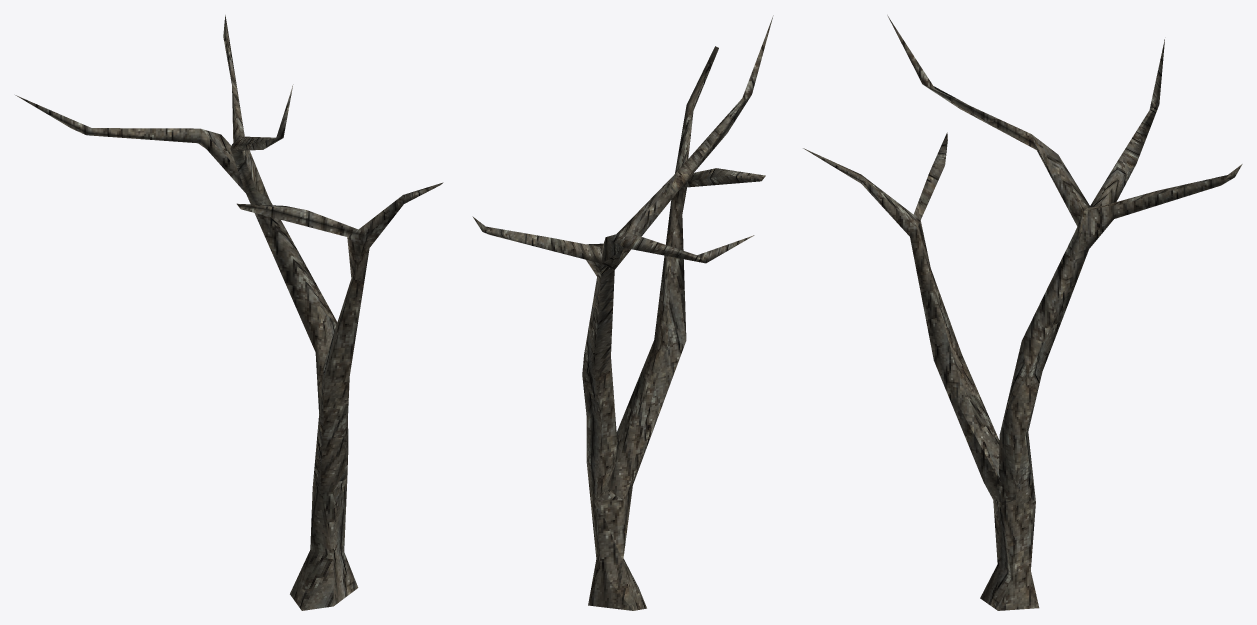
Rendered from fixedTree1.fbx.
3 views of the same model, side by side, from view 1: azimuth 30°, elevation 25°; view 2: azimuth 150°, elevation 25°; view 3: azimuth 270°, elevation 25° (orthographic). The views are drawn at different scales.
Visible parts, largest first — view 1: Tree 1; view 2: Tree 1; view 3: Tree 1.
Part boxes in pixels (bbox=[...]): Tree 1: bbox=[15, 15, 443, 610]; Tree 1: bbox=[472, 15, 773, 610]; Tree 1: bbox=[803, 15, 1242, 610].
Size of the model in its own units: 7.26 by 11.64 by 16.05.
